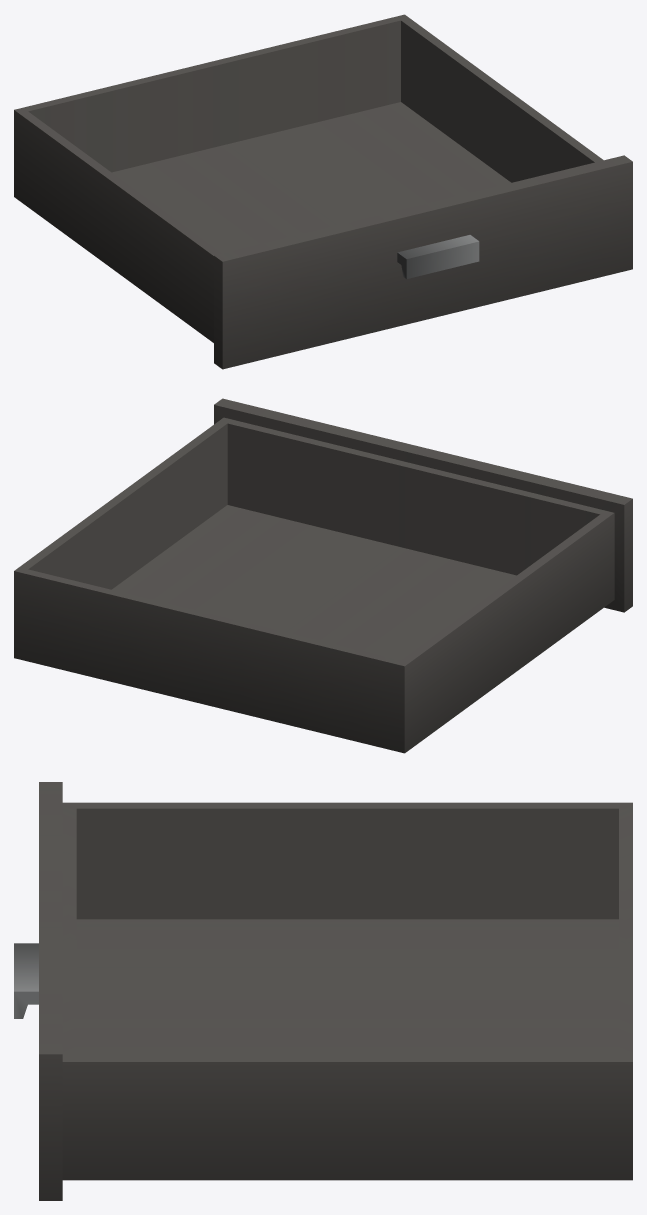
The model's file is Drawer_SideboardCabinet_Gray_small.fbx.
The picture shows the model from 3 angles, top to bottom: view 1: azimuth 30°, elevation 25°; view 2: azimuth 150°, elevation 25°; view 3: azimuth 270°, elevation 25°; orthographic projection. The views are drawn at different scales.
Parts seen in each view (by area): view 1: Drawer_SideboardCabinet_Gray_small; view 2: Drawer_SideboardCabinet_Gray_small; view 3: Drawer_SideboardCabinet_Gray_small.
Boxes of the visible parts, x1,y1,x2,y2 form: Drawer_SideboardCabinet_Gray_small: (14,14,632,369); Drawer_SideboardCabinet_Gray_small: (14,398,632,753); Drawer_SideboardCabinet_Gray_small: (14,782,632,1200).
Size of the model in its own units: 67.5 by 16.92 by 64.83.
